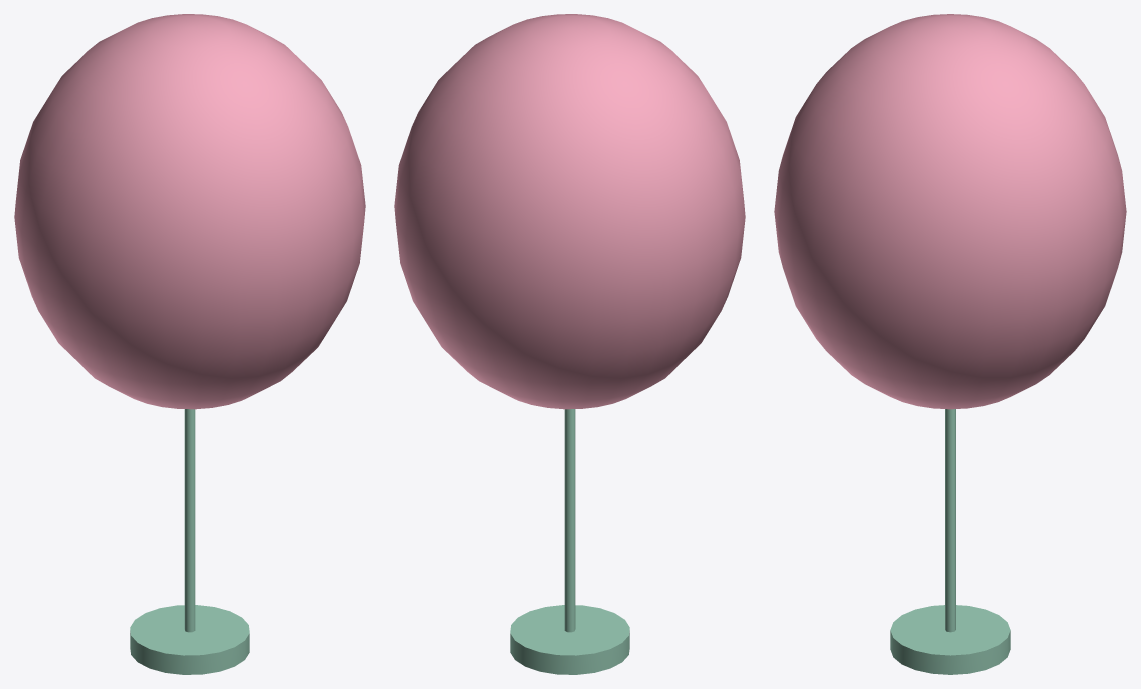
The model's file is zone_pastel_balloon.glb.
3 views of the same model, side by side, from view 1: azimuth 30°, elevation 25°; view 2: azimuth 150°, elevation 25°; view 3: azimuth 270°, elevation 25° (orthographic).
Parts seen in each view (by area): view 1: zone_pastel_balloon; view 2: zone_pastel_balloon; view 3: zone_pastel_balloon.
Part boxes in pixels (box(x1,y1,x2,y2)): zone_pastel_balloon: box(14, 14, 365, 674); zone_pastel_balloon: box(394, 14, 745, 674); zone_pastel_balloon: box(774, 14, 1126, 674).
Size of the model in its own units: 1.64 by 3.19 by 1.64.
